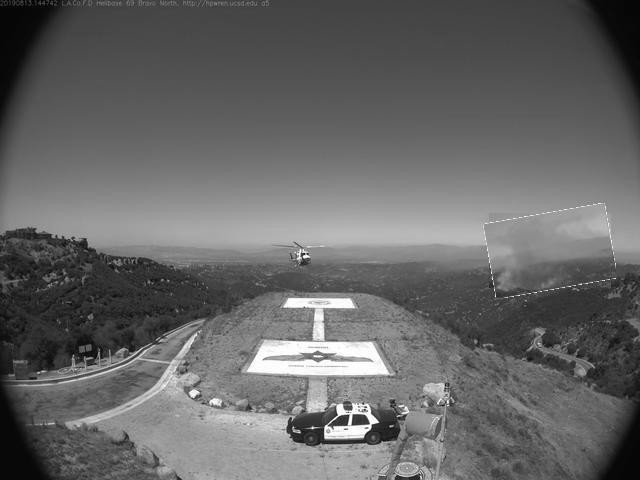smoke: (487, 209, 616, 295)
